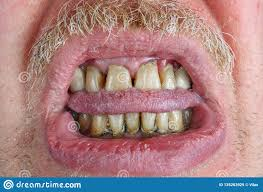decay: (89, 116, 108, 138), (125, 113, 140, 136), (108, 116, 126, 135), (140, 113, 156, 133), (77, 115, 89, 133), (184, 110, 192, 128)
normal: (174, 67, 190, 89), (162, 64, 176, 88), (72, 70, 83, 91)
rough: (136, 58, 161, 91)
yellow: (106, 67, 131, 89), (85, 68, 100, 92), (156, 116, 170, 133), (172, 112, 183, 132)
